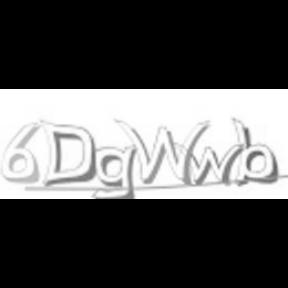6: (2, 120, 40, 184)
D: (40, 120, 96, 188)
W: (114, 117, 210, 183)
b: (230, 116, 278, 186)
g: (94, 145, 136, 199)
w: (178, 142, 240, 188)
